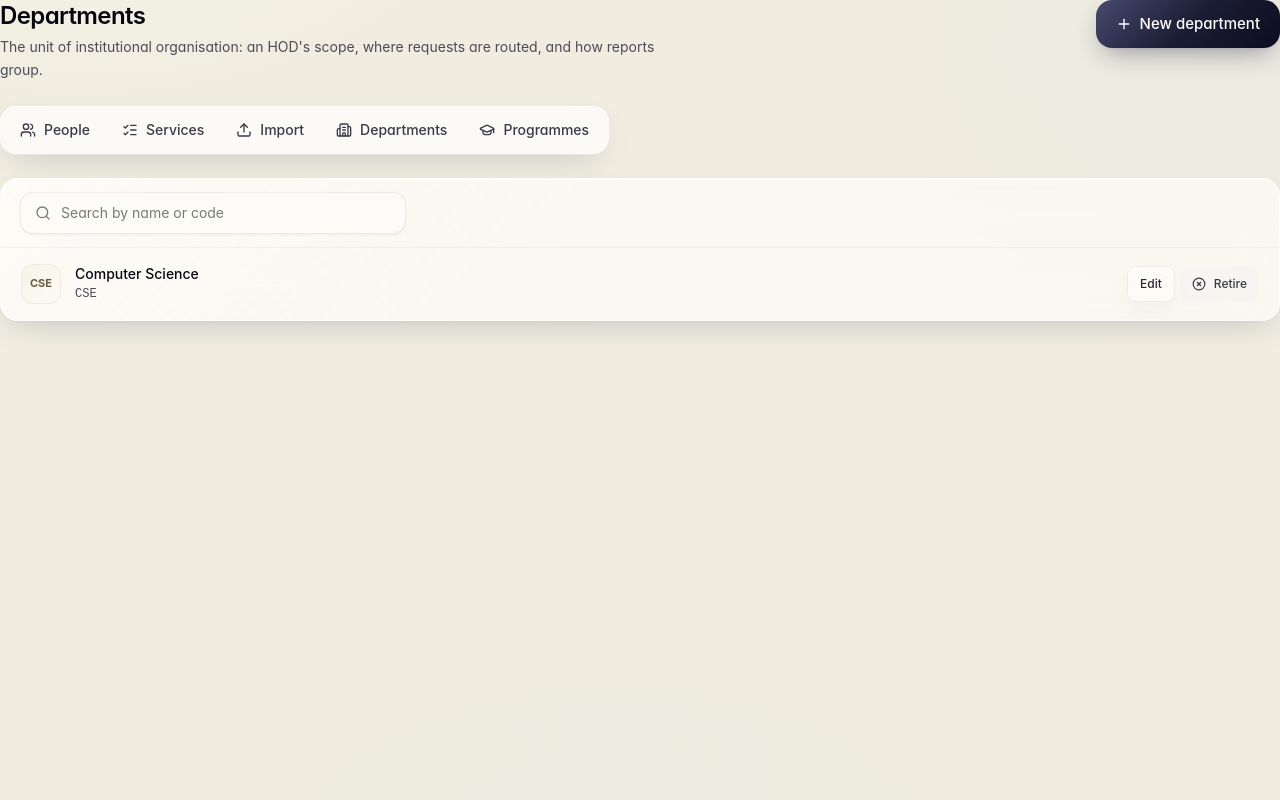
Test: departments › will not retire a department the server says still has people on it
Click the button "Retire" at (1219, 284), box [1180,266,1259,300]
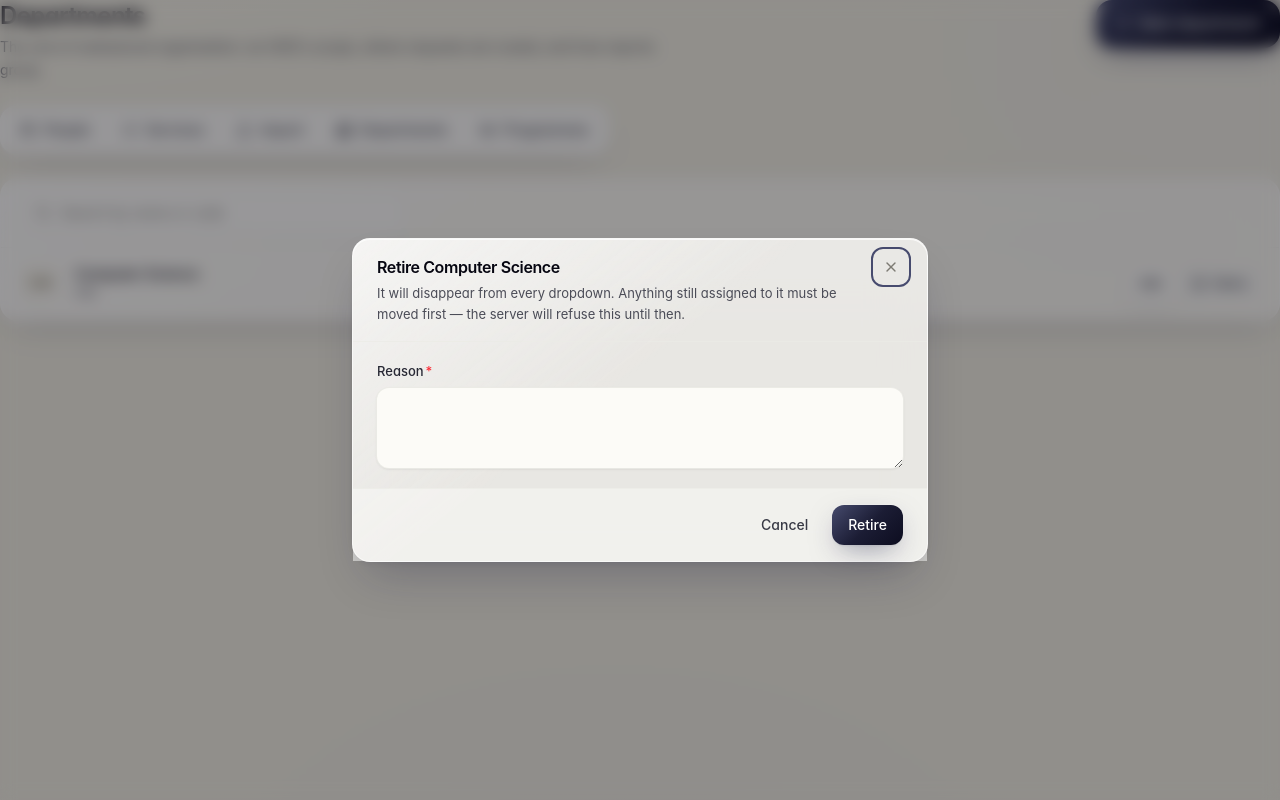
Type "Closing the department down" into the text box labelled "Reason*" at (640, 428), box [377,388,903,468]
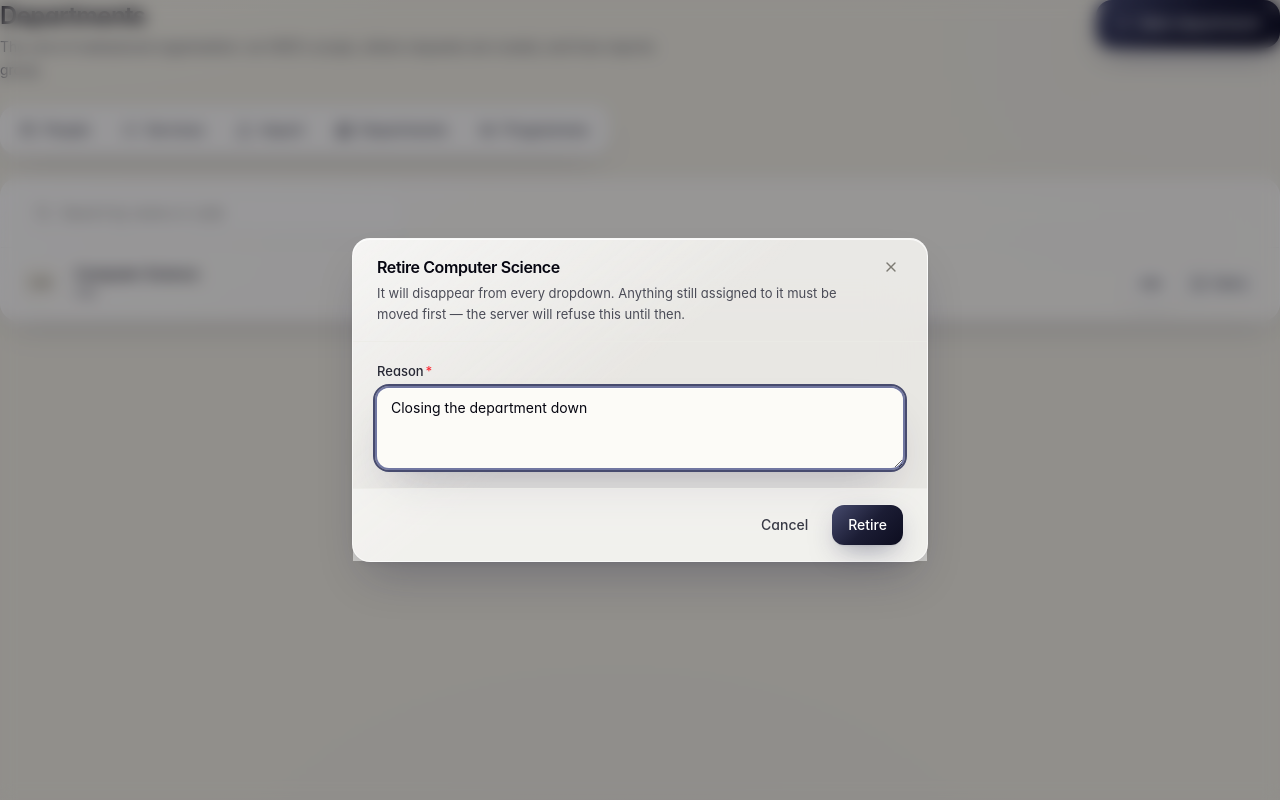
Click the button "Retire" at (868, 525), box [832,505,903,545]
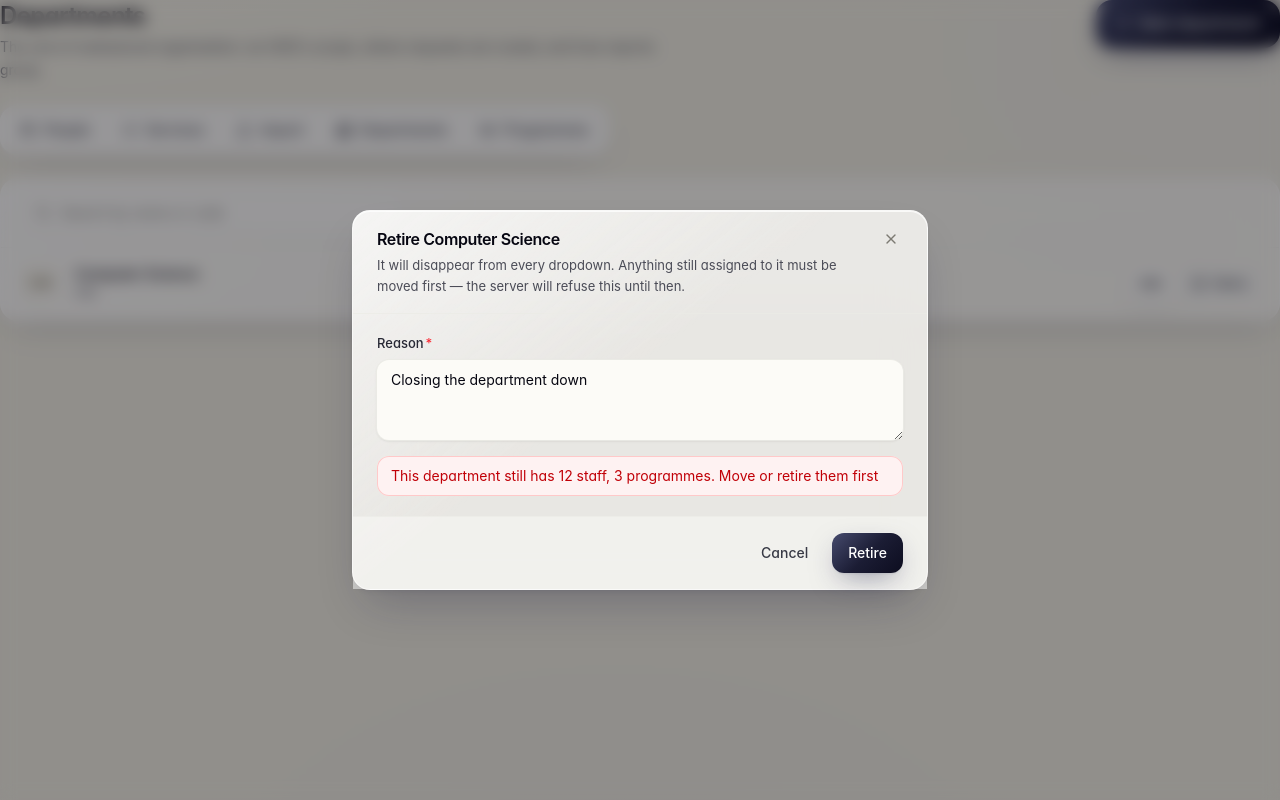
Expected: the text "This department still has 12 staff, 3 programmes. Move or retire them first" is shown, [377,456,903,496]
